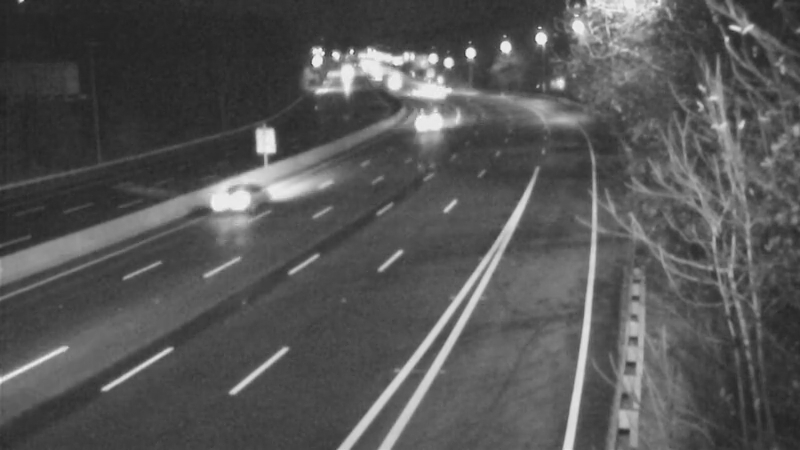vehicle: (190, 155, 270, 235), (397, 66, 447, 116), (418, 66, 468, 116), (401, 97, 451, 147)
